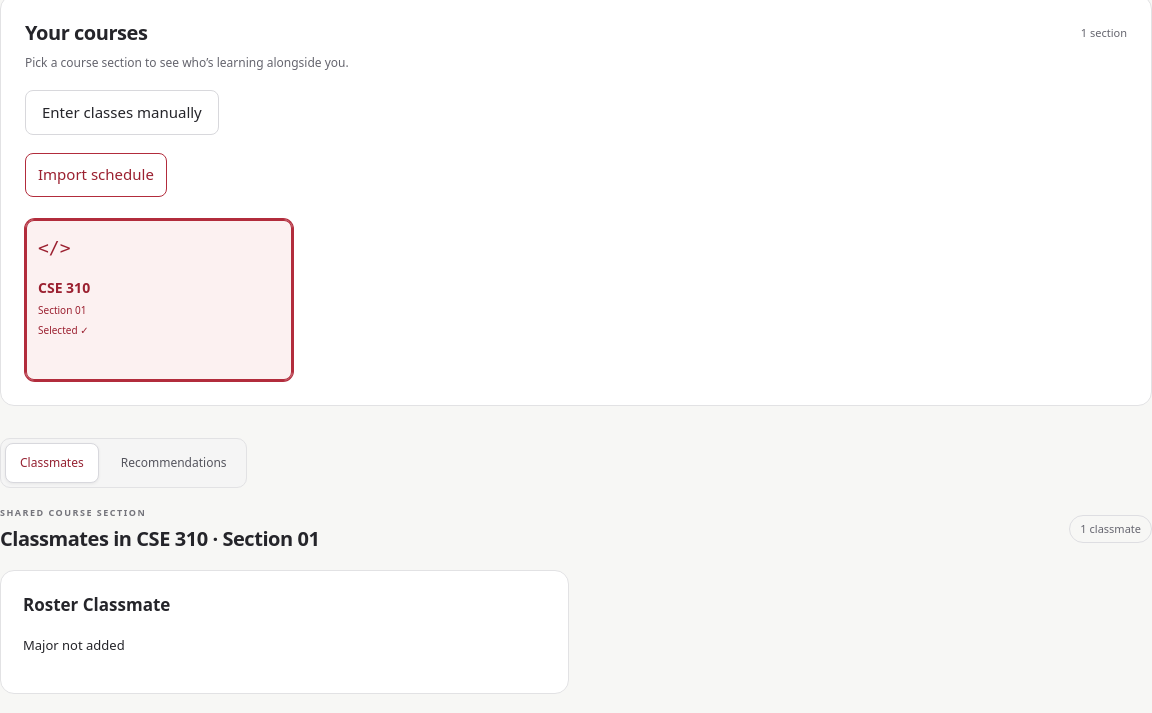
Test: course recommendation dashboard › displays optional details when they are present in the public projection
Step 1. Click the button "Recommendations" → [174, 462], box [106,442,242,482]
(page scrolled)
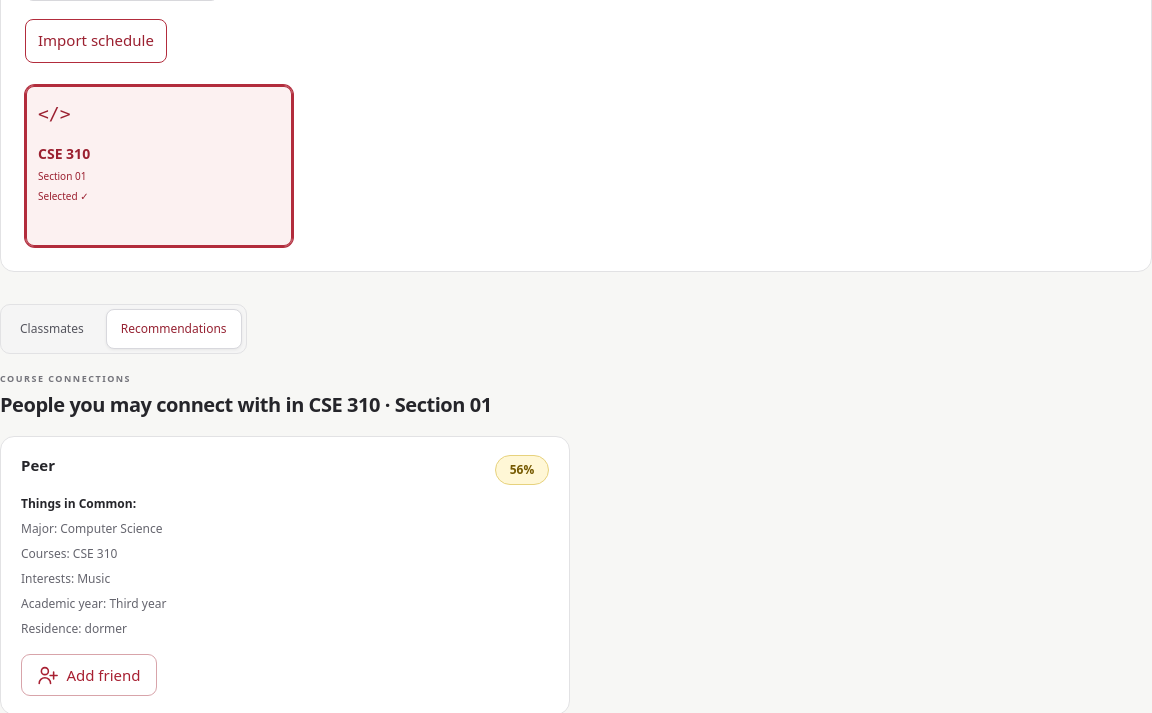
Expected: the text "Things in Common:" is shown, [21,495,136,512]
Expected: the text "Courses: CSE 310" is shown, [21,545,117,562]
Expected: the text "Major: Computer Science" is shown, [21,520,162,537]
